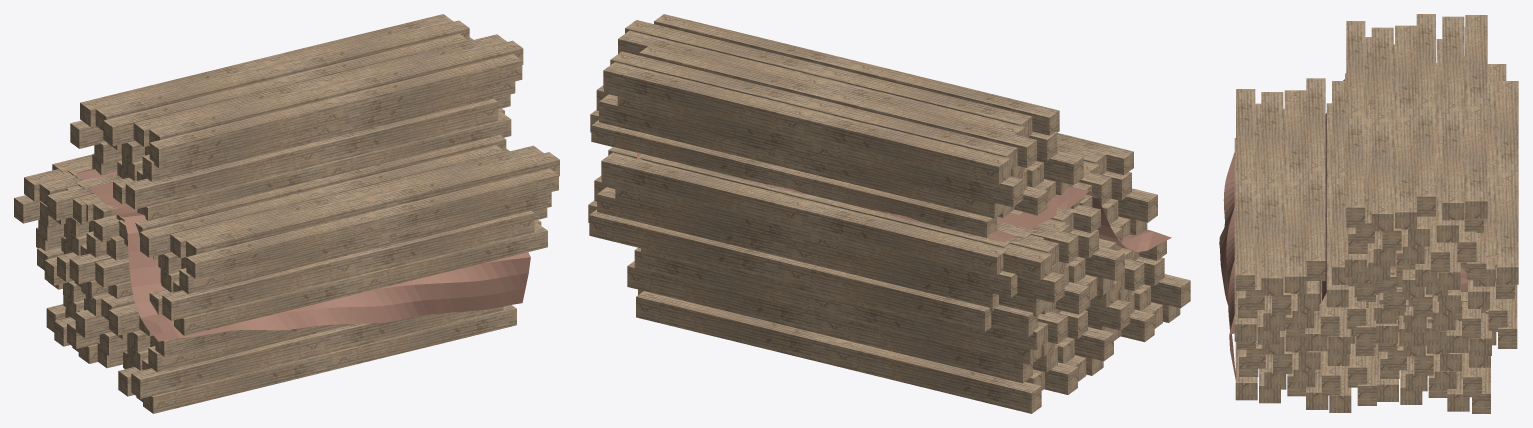
Rendered from planks storage.fbx.
3 views of the same model, side by side, from view 1: azimuth 30°, elevation 25°; view 2: azimuth 150°, elevation 25°; view 3: azimuth 270°, elevation 25° (orthographic). The views are drawn at different scales.
Parts seen in each view (by area): view 1: Group1, Group3, Group2; view 2: Group1, Group3, Group2; view 3: Group1, Group3, Group2.
Part boxes in pixels (left/top/right/bottom): Group1: left=52, top=14, right=559, bottom=335; Group3: left=37, top=169, right=530, bottom=413; Group2: left=14, top=169, right=119, bottom=298; Group1: left=588, top=14, right=1157, bottom=332; Group3: left=627, top=152, right=1190, bottom=413; Group2: left=991, top=205, right=1124, bottom=337; Group1: left=1234, top=14, right=1518, bottom=355; Group3: left=1219, top=79, right=1498, bottom=413; Group2: left=1376, top=63, right=1506, bottom=338.
Size of the model in its own units: 83.3 by 38.94 by 46.
